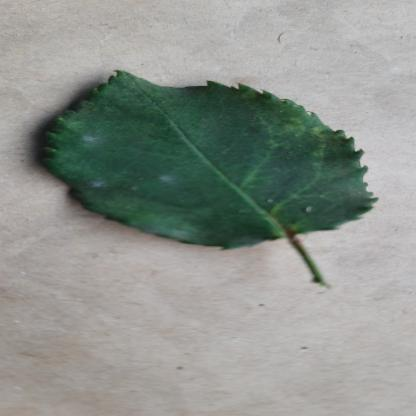powdery-mildew: (35, 68, 385, 248)
